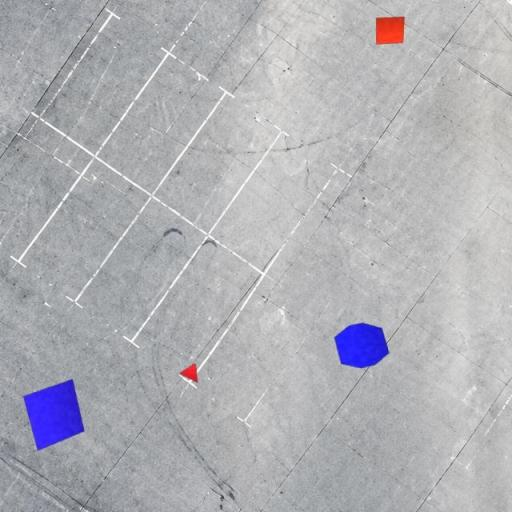BLUE_SQUARE: (22, 378, 86, 452)
RED_SQUARE: (375, 16, 405, 46)
